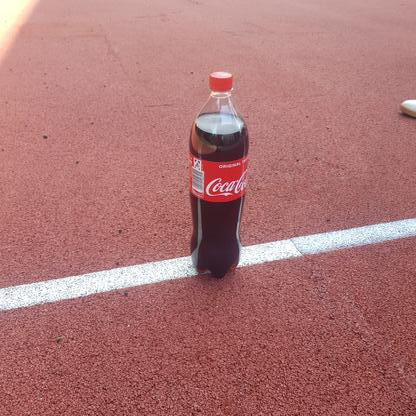coca-cola: (186, 70, 251, 283)
